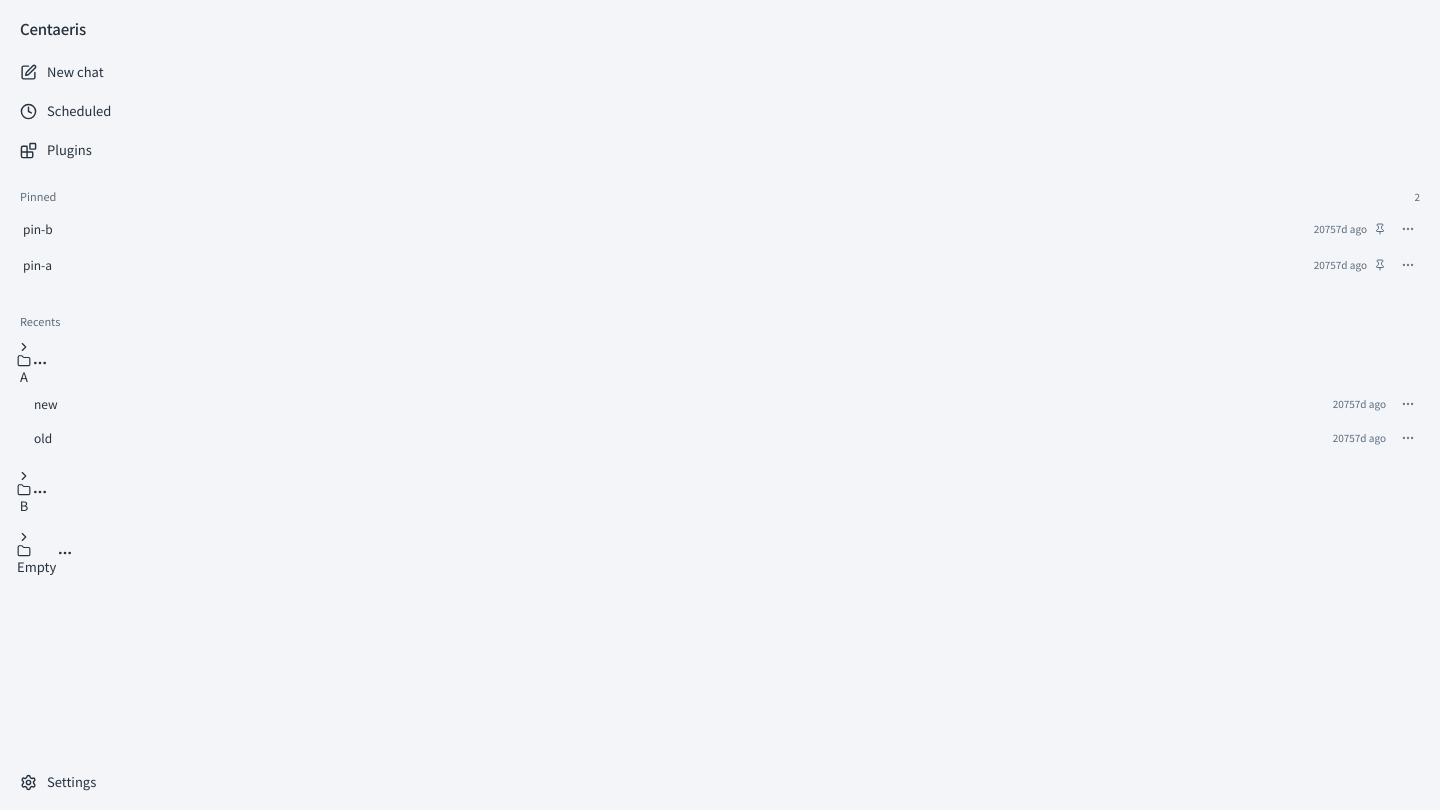
Scenario: the entire workspace title toggles its conversation group without selecting a workspace
Click the button "A" at (24, 363), box x1=17 y1=340 x2=31 y2=387
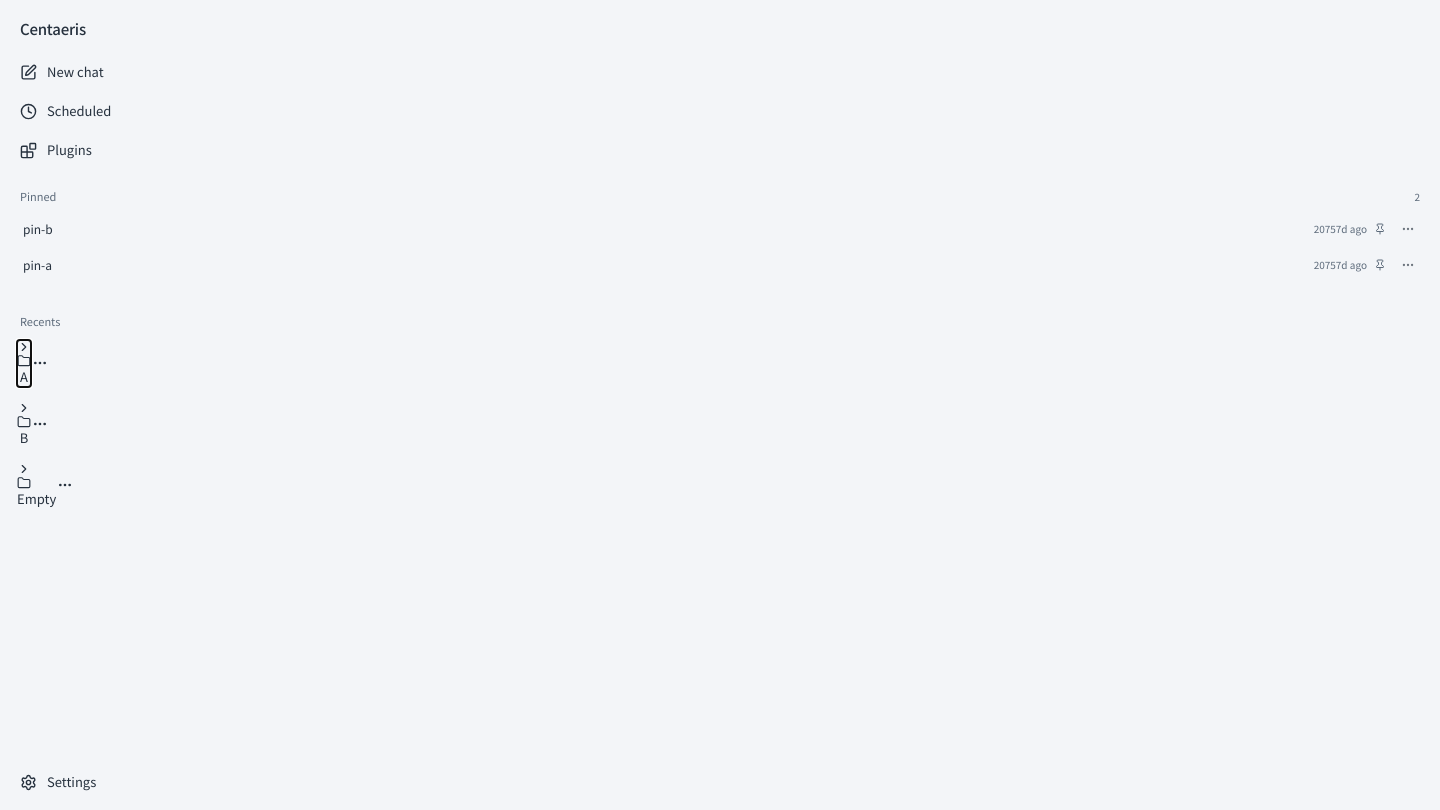
Now the button named "Toggle A" is collapsed, box x1=17 y1=340 x2=31 y2=387
Type keys " "
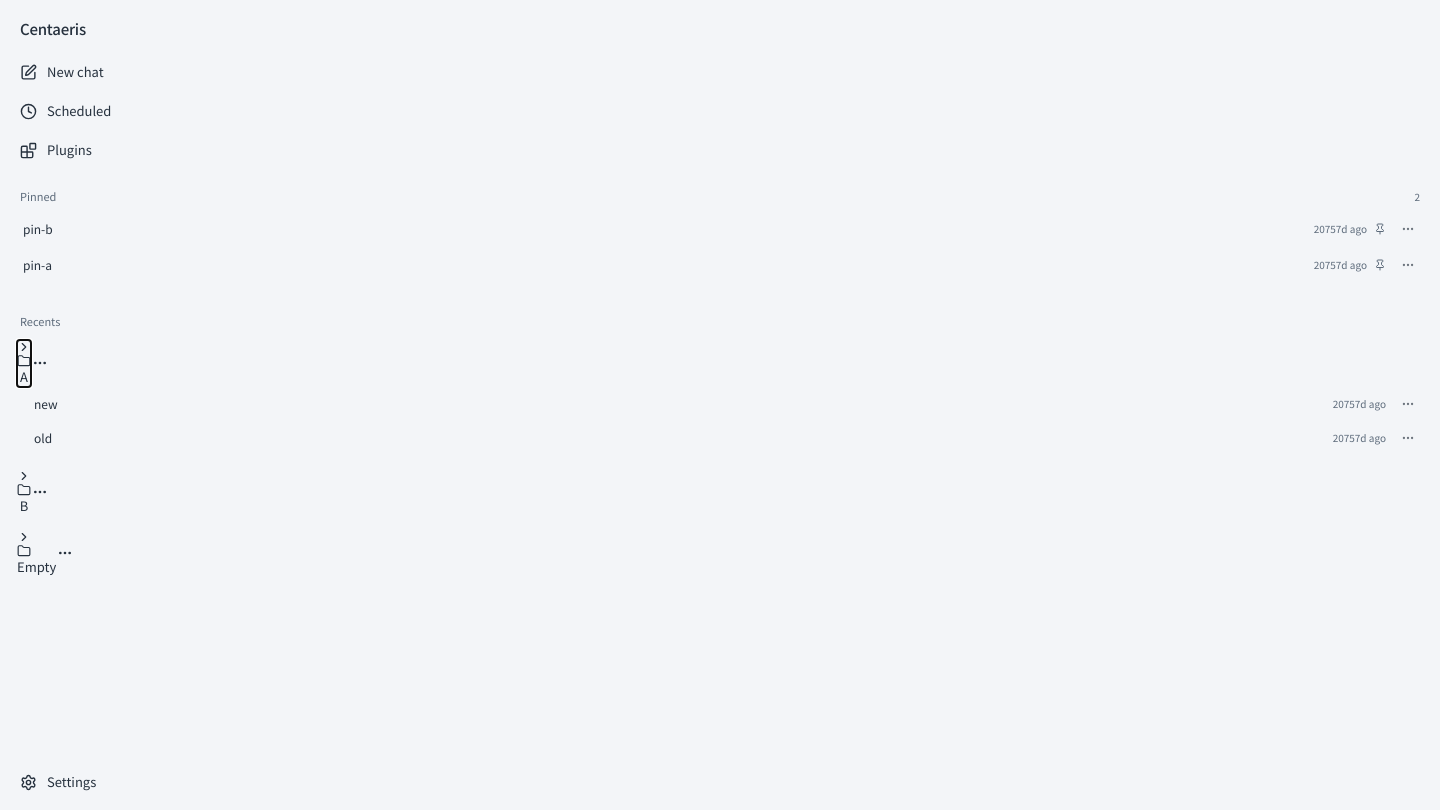
Now the button "new 20757d ago" is shown, box x1=29 y1=387 x2=1391 y2=421
Click the button named "Workspace actions A" at (40, 363), box x1=32 y1=355 x2=48 y2=371
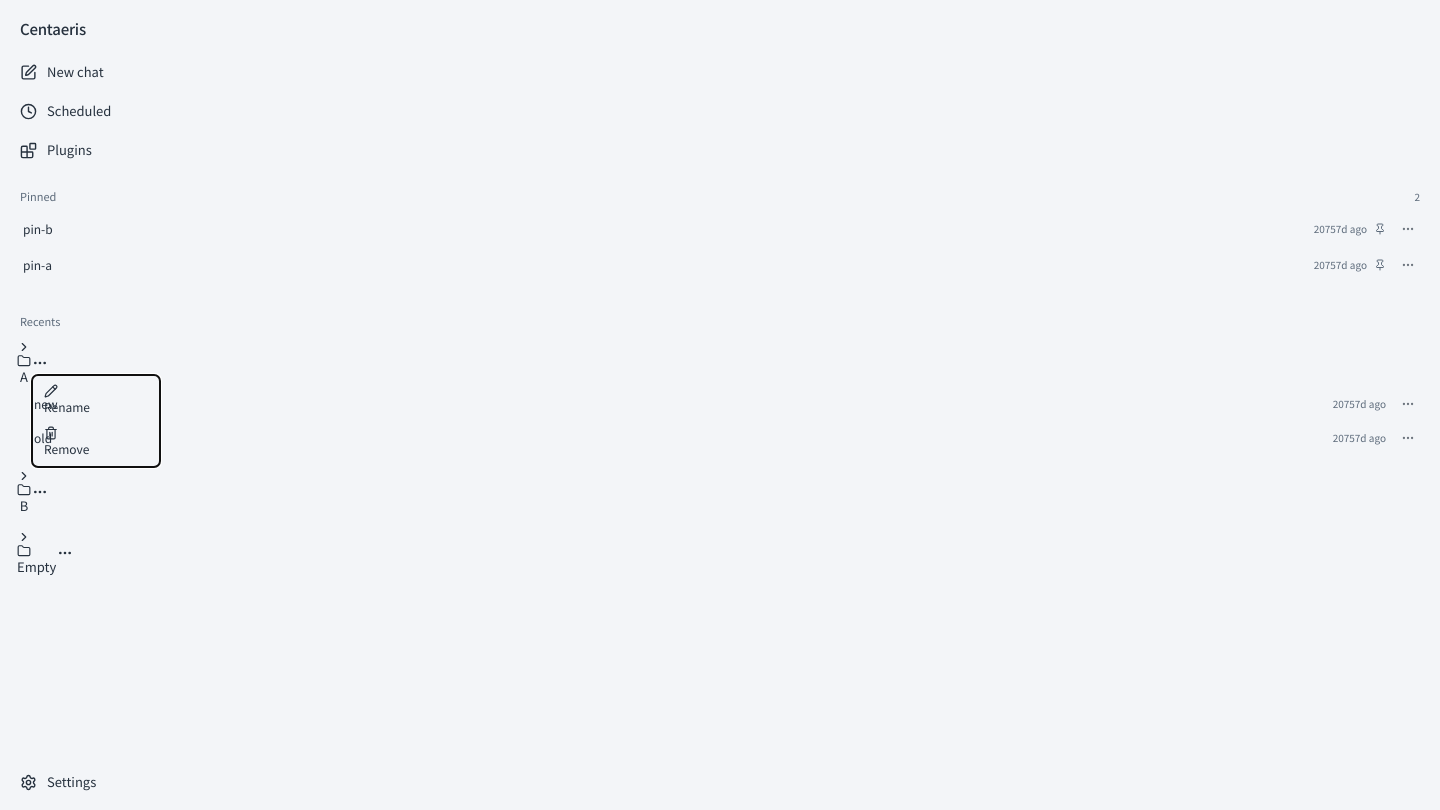
Now the button named "Toggle A" is expanded, box x1=17 y1=340 x2=31 y2=387
Now the menu is shown, box x1=44 y1=384 x2=90 y2=456
Press Escape
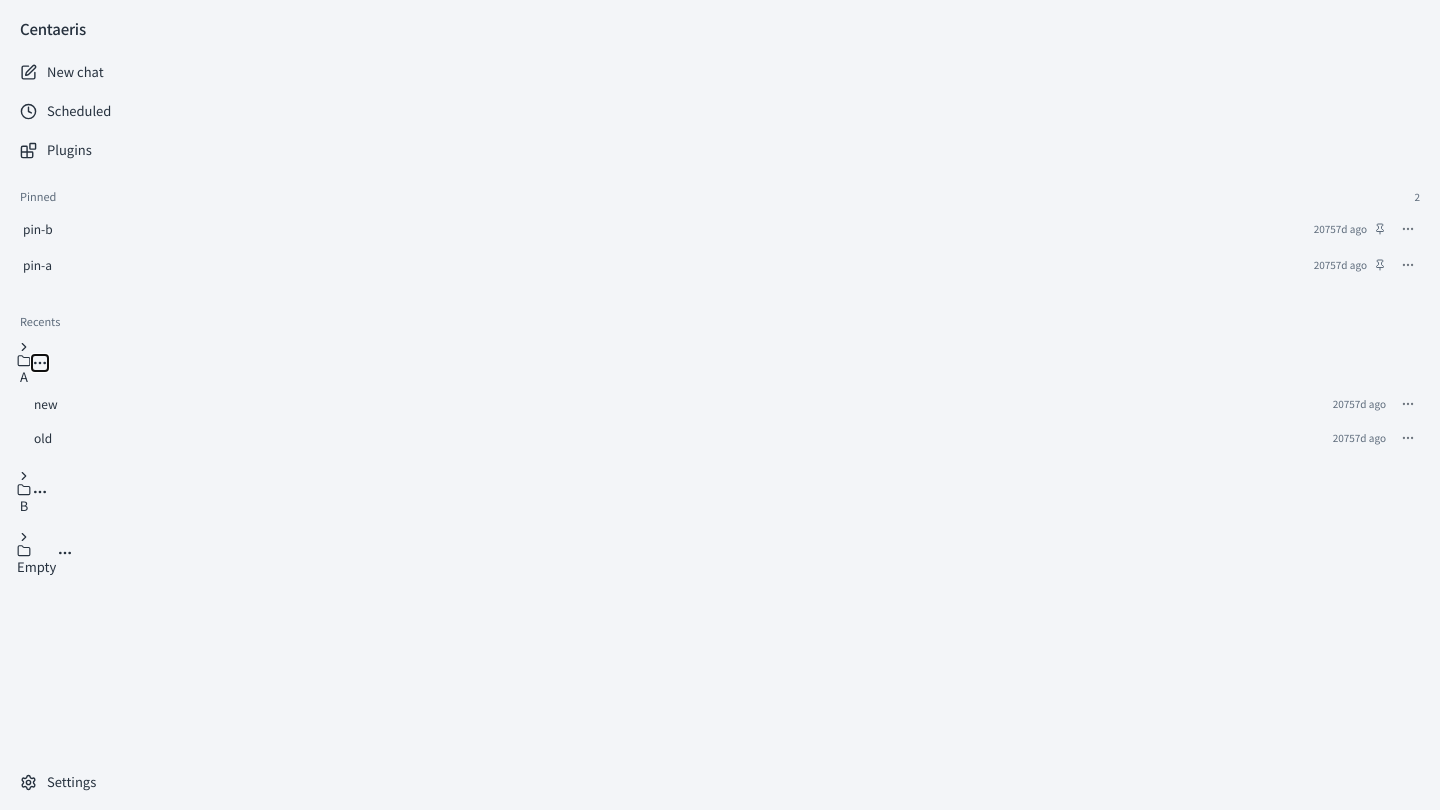
Now the menu is gone
